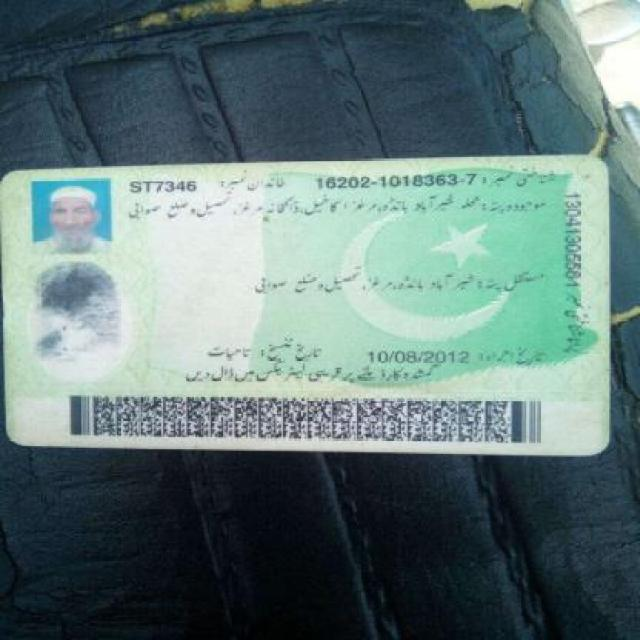Back: (3, 157, 612, 454)
